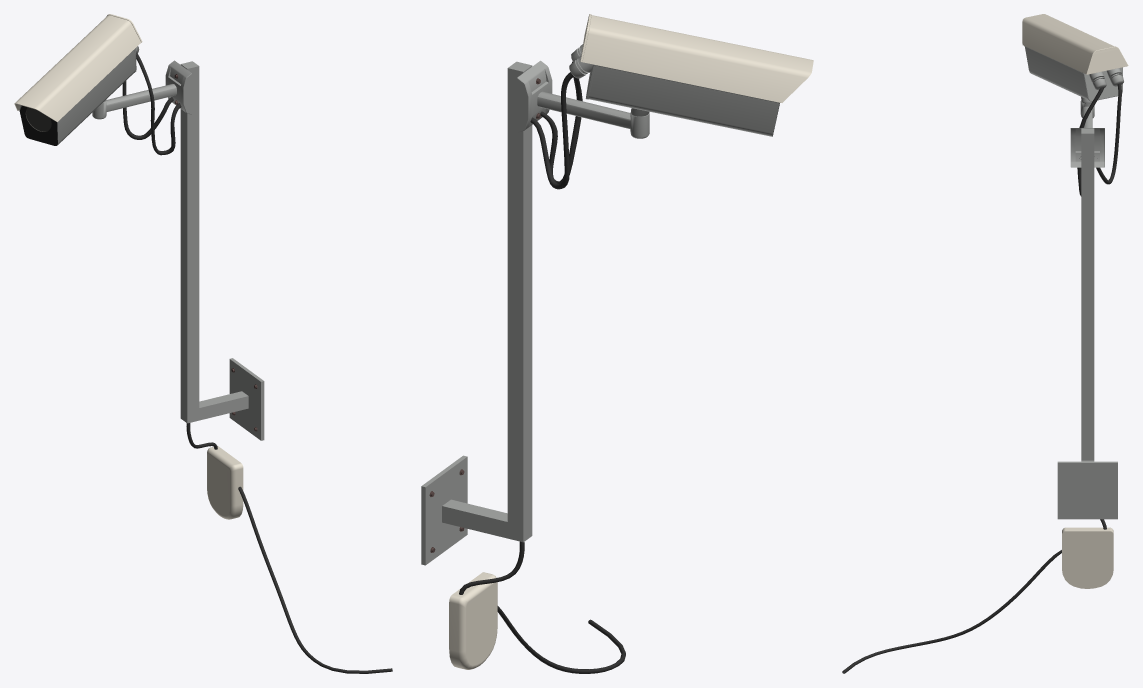
The model's file is cctv_camera.fbx.
3 views of the same model, side by side, from view 1: azimuth 30°, elevation 25°; view 2: azimuth 150°, elevation 25°; view 3: azimuth 270°, elevation 25° (orthographic). The views are drawn at different scales.
Parts seen in each view (by area): view 1: cctv_camera, cctv_camera_wire; view 2: cctv_camera, cctv_camera_wire; view 3: cctv_camera, cctv_camera_wire.
Boxes of the visible parts, x1,y1,x2,y2 form: cctv_camera: (14,14,264,519); cctv_camera_wire: (122,54,392,673); cctv_camera: (421,14,813,669); cctv_camera_wire: (459,61,625,673); cctv_camera: (1022,14,1128,588); cctv_camera_wire: (842,83,1121,673).
Size of the model in its own units: 81.79 by 169 by 77.81.
